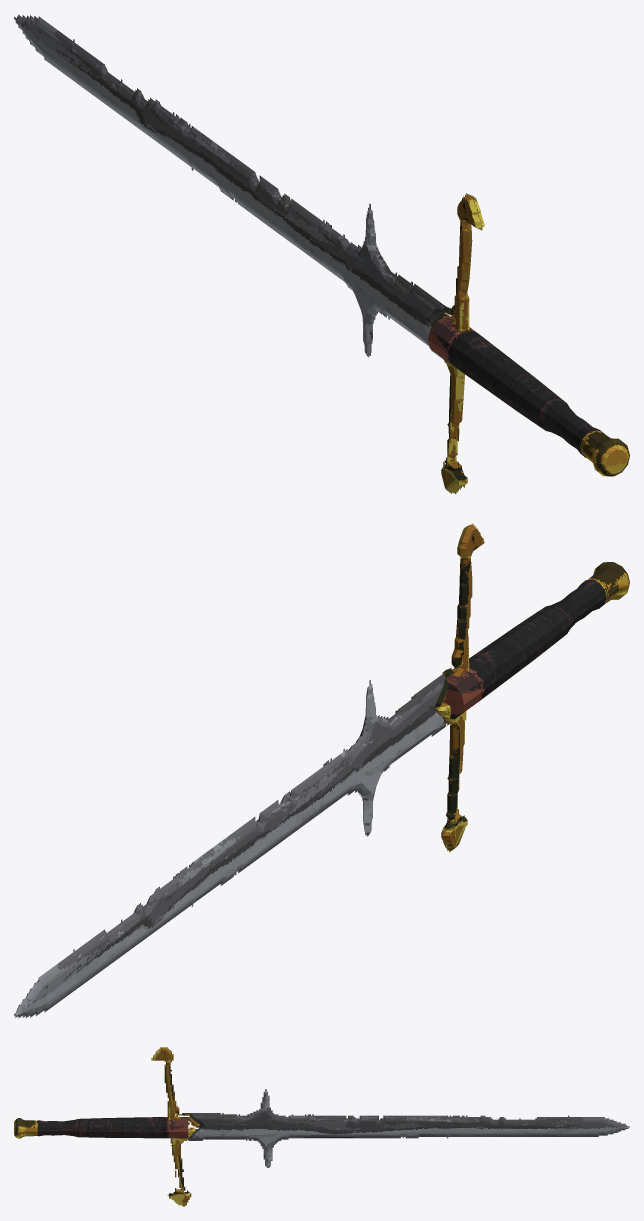
Rendered from claymore.glb.
3 views of the same model, one above another, from view 1: azimuth 30°, elevation 25°; view 2: azimuth 150°, elevation 25°; view 3: azimuth 270°, elevation 25° (orthographic). The views are drawn at different scales.
Visible parts, largest first — view 1: blade, grip, guard, pommel; view 2: blade, grip, guard, pommel; view 3: blade, grip, guard, pommel.
Part boxes in pixels (<box>): blade: <box>14,14,444,359</box>; grip: <box>428,316,604,457</box>; guard: <box>431,193,484,494</box>; pommel: <box>580,430,629,476</box>; blade: <box>14,673,446,1018</box>; grip: <box>436,580,606,719</box>; guard: <box>435,523,484,852</box>; pommel: <box>587,562,629,603</box>; blade: <box>188,1089,629,1167</box>; grip: <box>37,1117,188,1138</box>; guard: <box>151,1047,199,1206</box>; pommel: <box>14,1118,37,1138</box>.
Bounding box in the file's own units: 0.0483 × 0.3962 × 1.39.
Materials: 2 (2 with a texture image).
